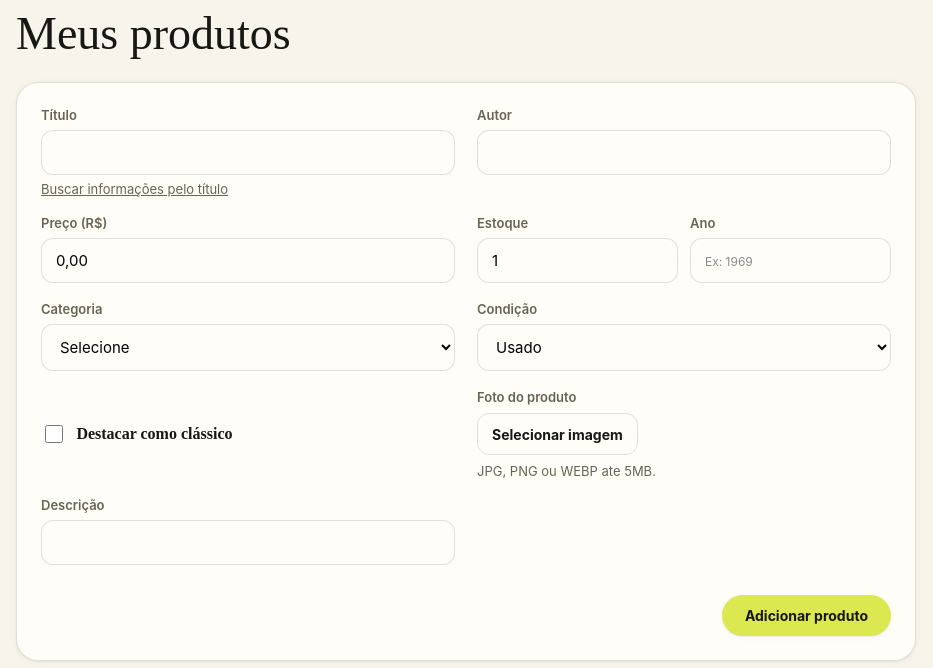
Test: autopreenchimento do cadastro de produto pelo titulo › avisa quando nenhuma informacao for encontrada para o titulo
Type "titulo inexistente" into the field labelled "Título" at (248, 152), box [41,130,455,175]
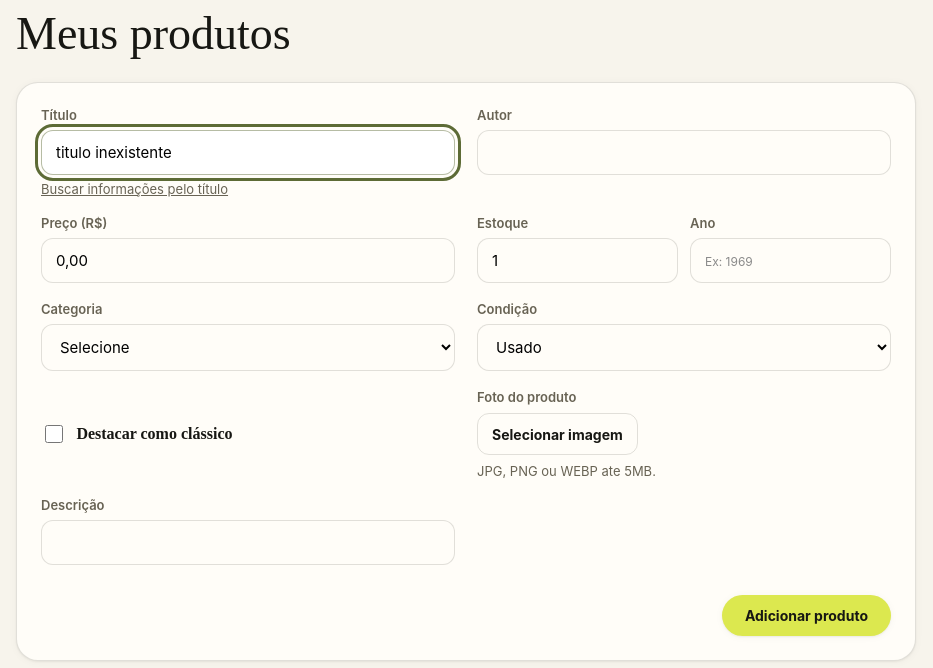
Click the button "Buscar informações pelo título" at (134, 189), box [41,181,228,197]
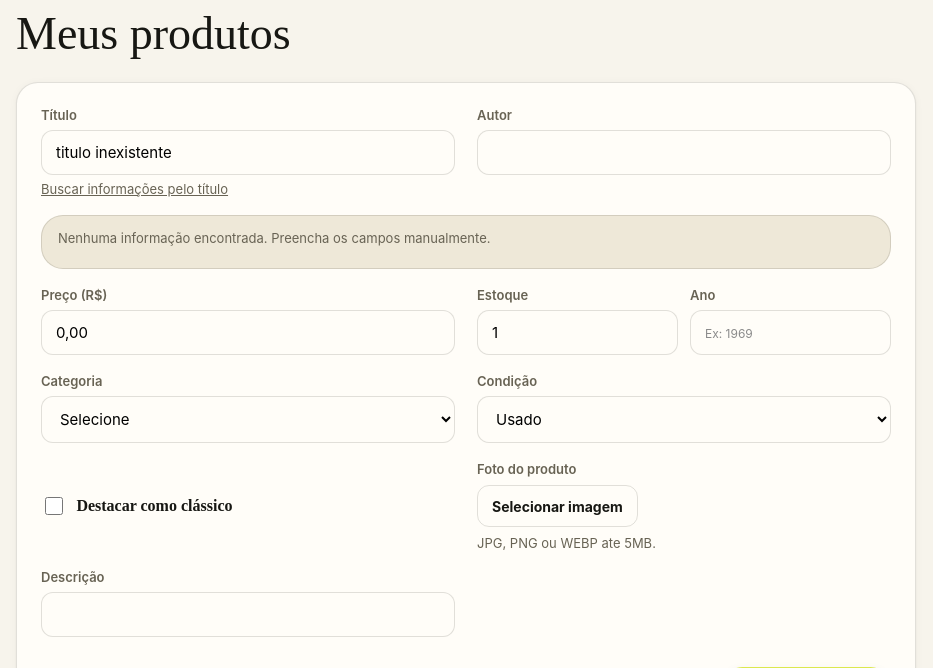
Expected: the text "Nenhuma informação encontrada. Preencha os campos manualmente." is shown, [58,230,490,246]
